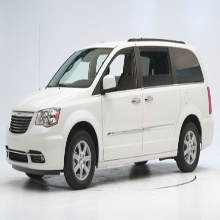no damage: (4, 37, 214, 189)
